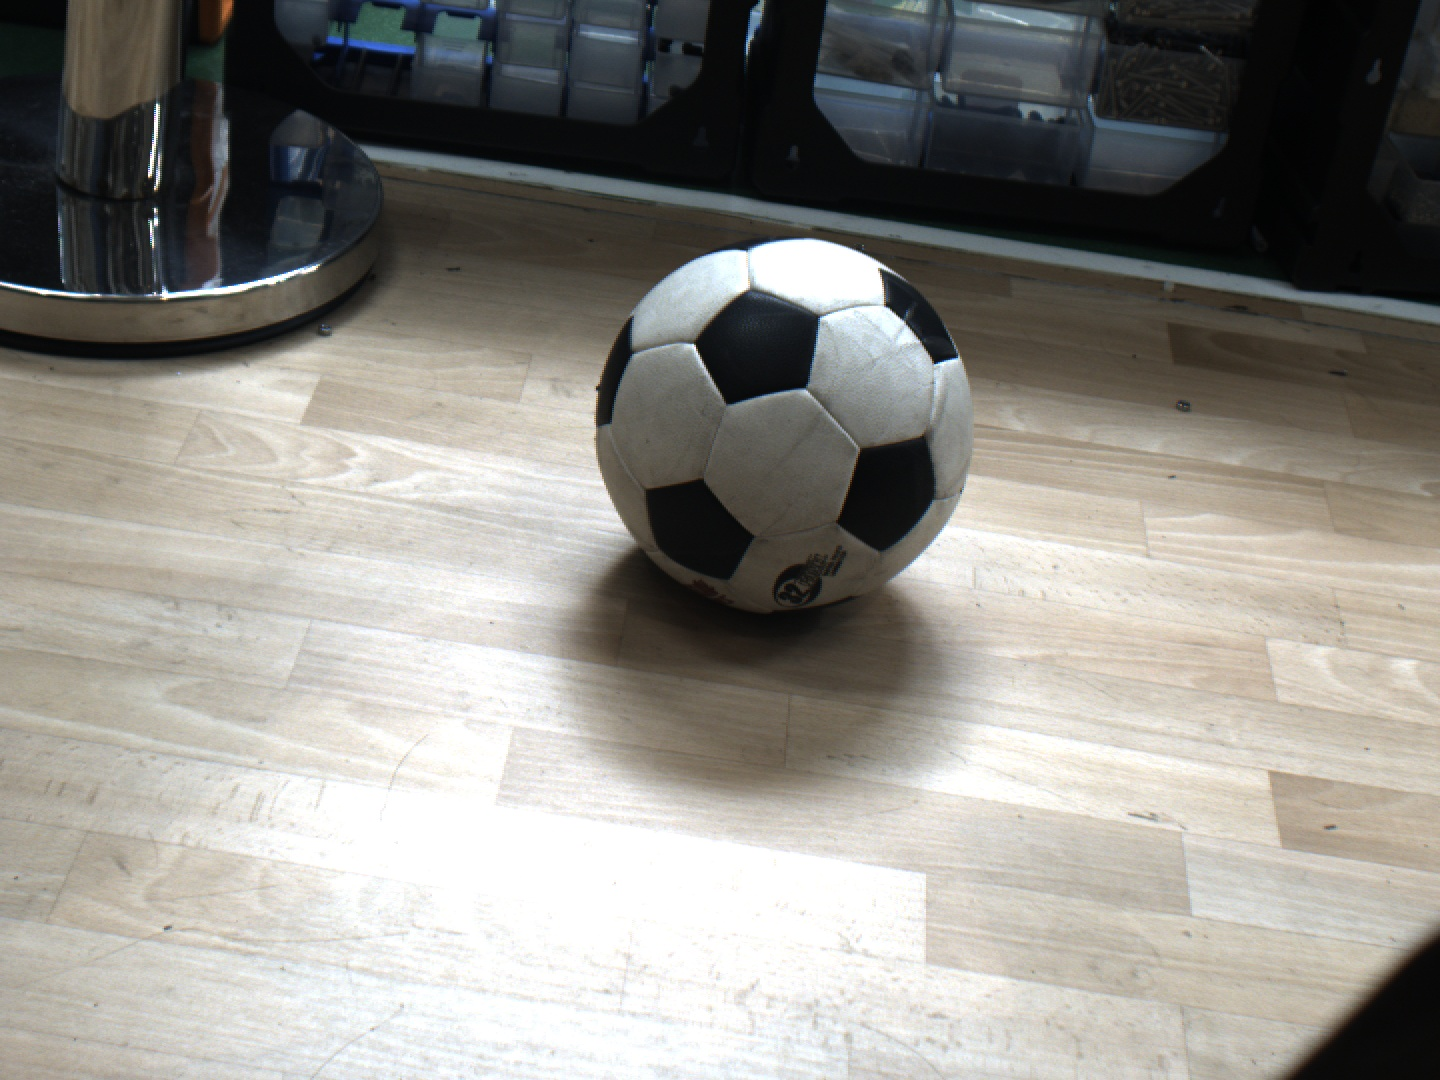ball: (557, 211, 1010, 661)
